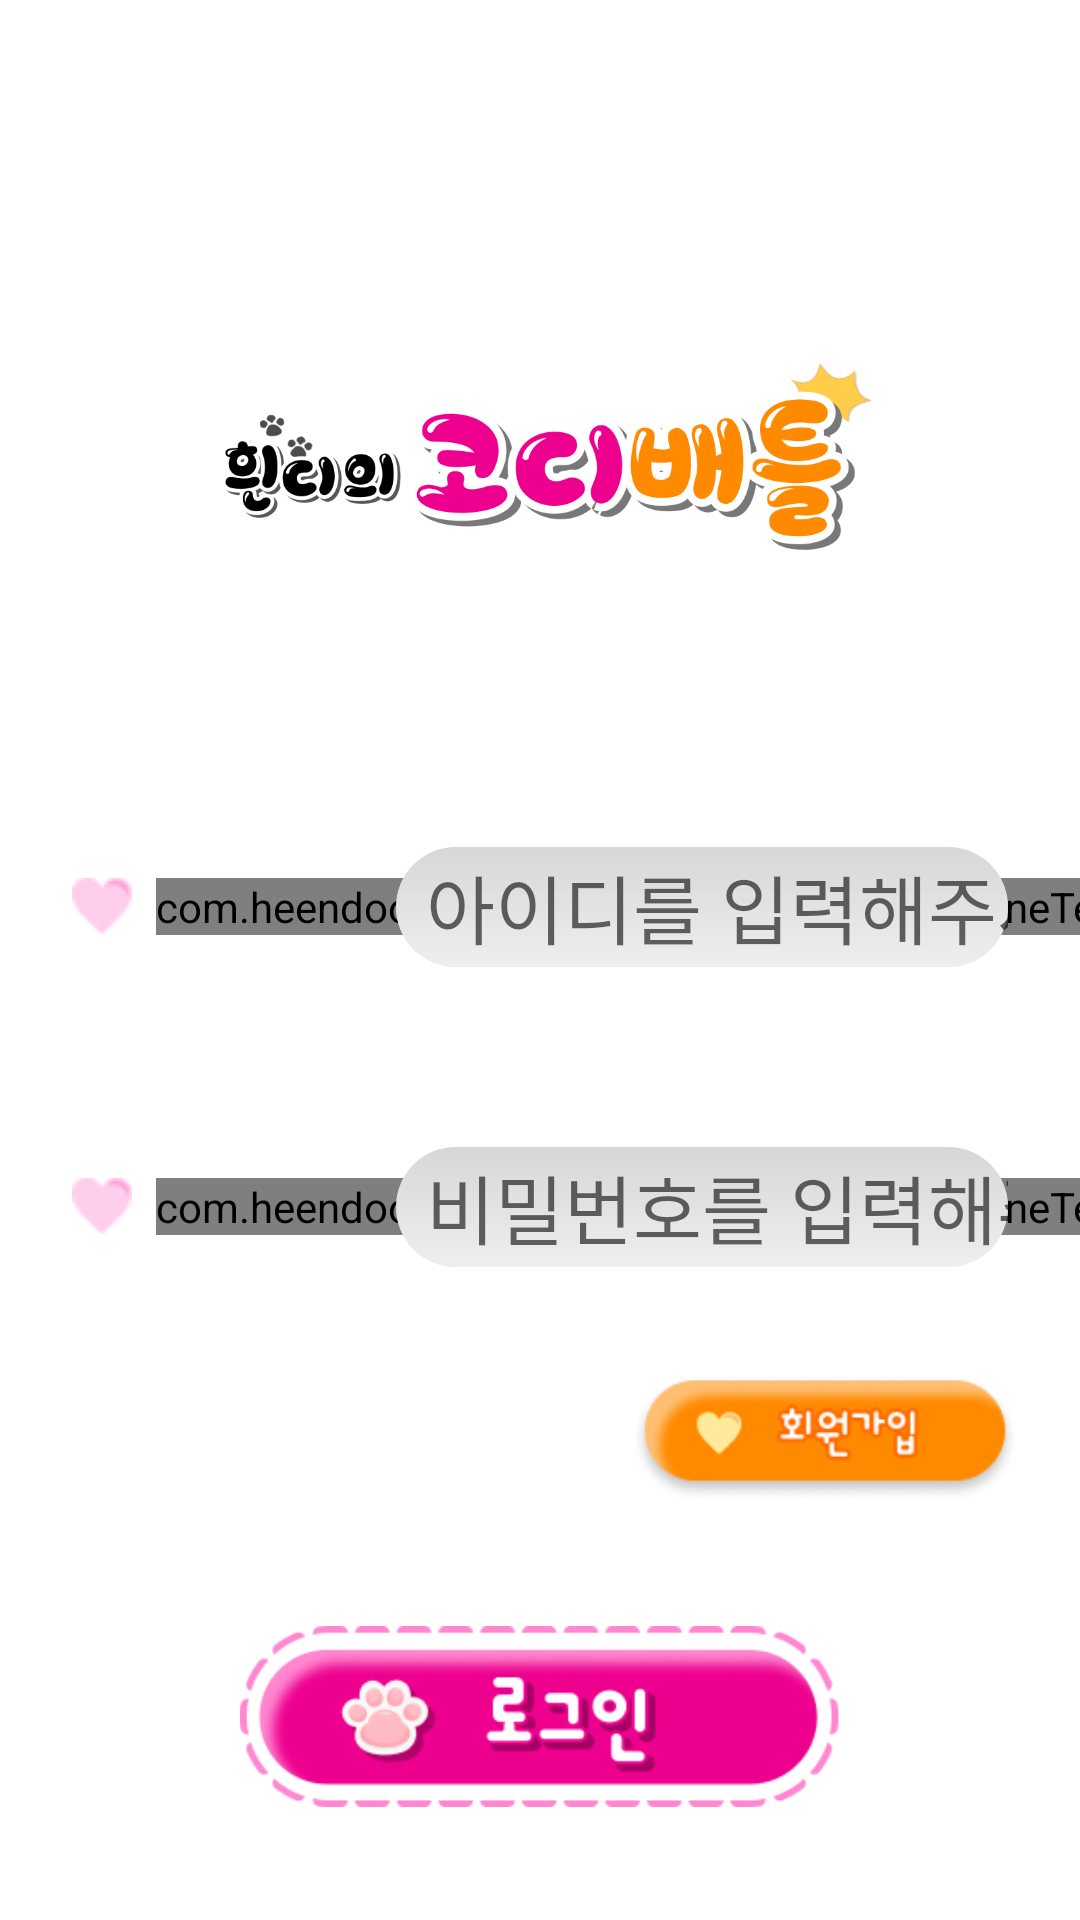

Locate icon controls on the screen. Image size 1080 × 1920, boxes as (x1, y1, x2, y2).
heart: (72, 878, 132, 934), (72, 1178, 132, 1234)
